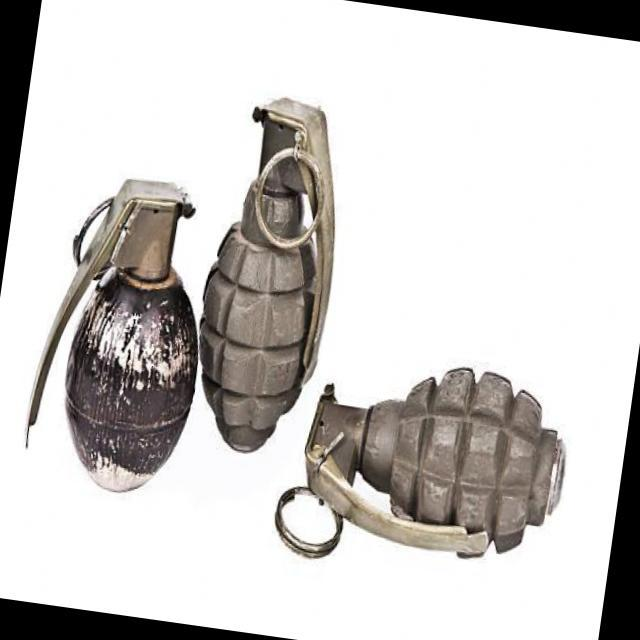grenade: (12, 24, 349, 534), (288, 336, 580, 574)
